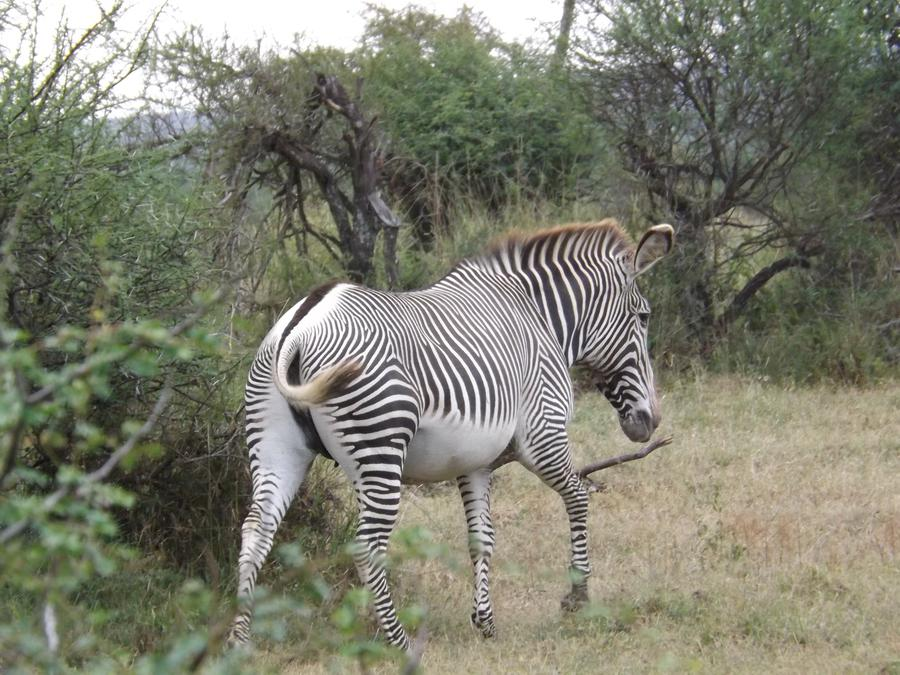zebra_grevys: (265, 279, 578, 446)
